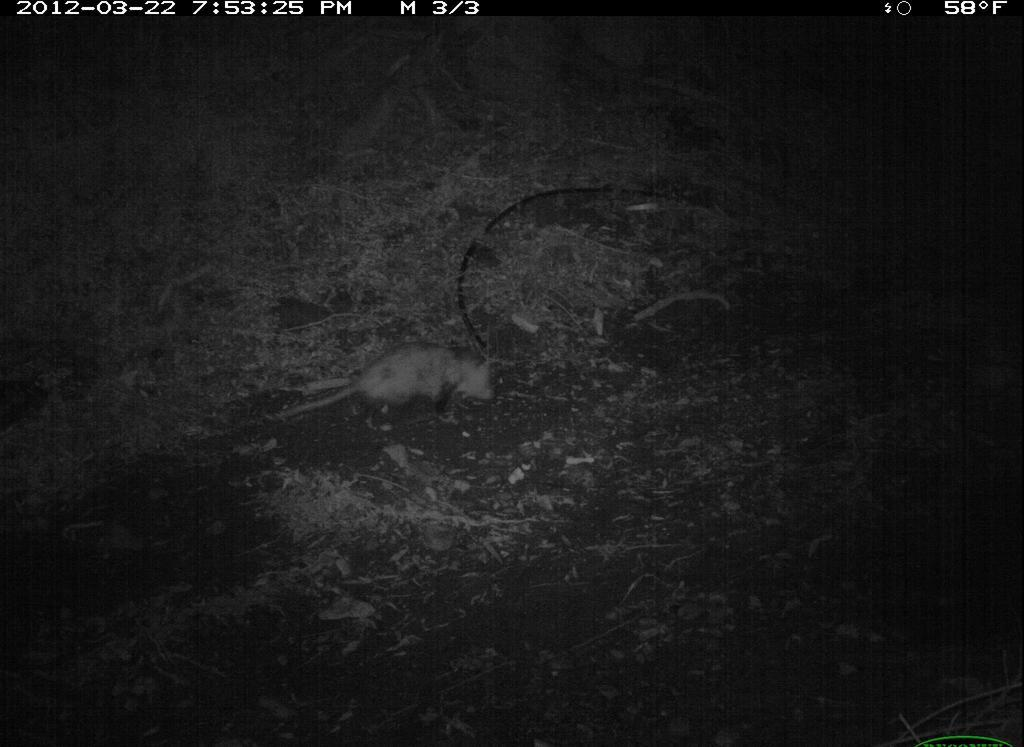opossum: (271, 341, 502, 428)
